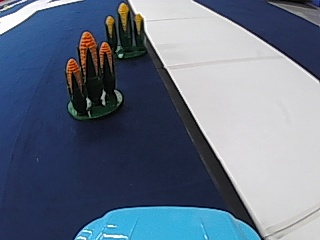corn: (62, 27, 122, 120), (103, 1, 149, 59)
